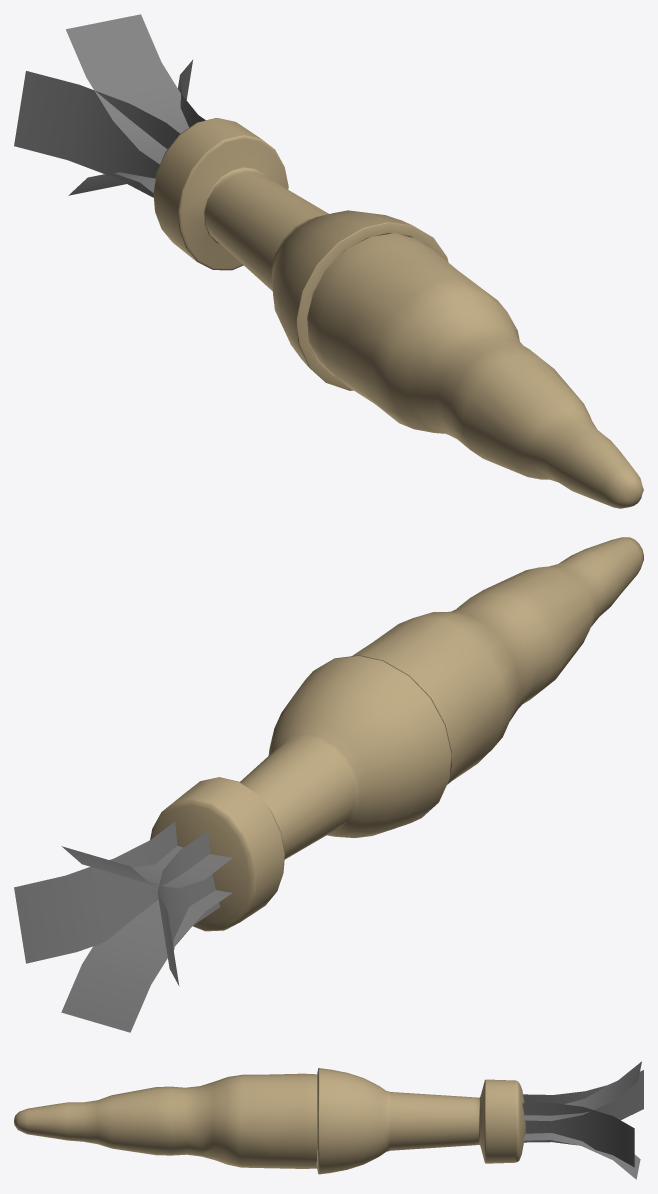
The model's file is MeleeWeapon_LP.fbx.
3 renders of one model, top to bottom at view 1: azimuth 30°, elevation 25°; view 2: azimuth 150°, elevation 25°; view 3: azimuth 270°, elevation 25°, orthographic. The views are drawn at different scales.
Visible parts, largest first — view 1: body_LP, Plane002; view 2: body_LP, Plane002; view 3: body_LP, Plane002.
Part boxes in pixels (<box>): body_LP: <box>153,118,643,508</box>; Plane002: <box>14,14,205,197</box>; body_LP: <box>150,537,643,931</box>; Plane002: <box>14,821,232,1032</box>; body_LP: <box>14,1068,525,1174</box>; Plane002: <box>522,1061,643,1179</box>.
Size of the model in its own units: 0.6547 by 0.6111 by 3.54.
